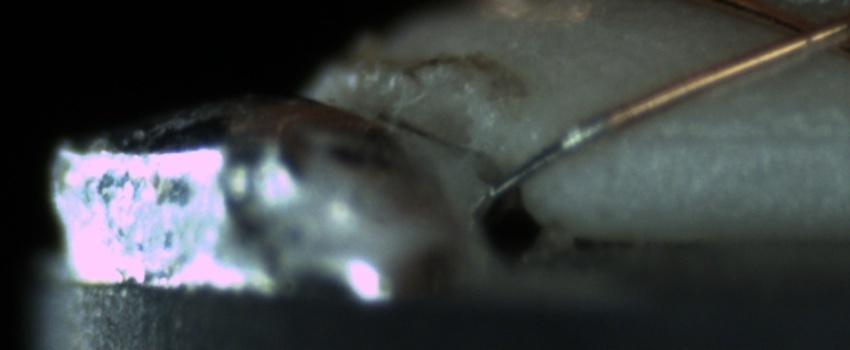CL: (751, 2, 849, 66)
DL: (632, 107, 849, 167)
TS: (488, 118, 612, 206)
TTCW: (492, 85, 650, 202)
